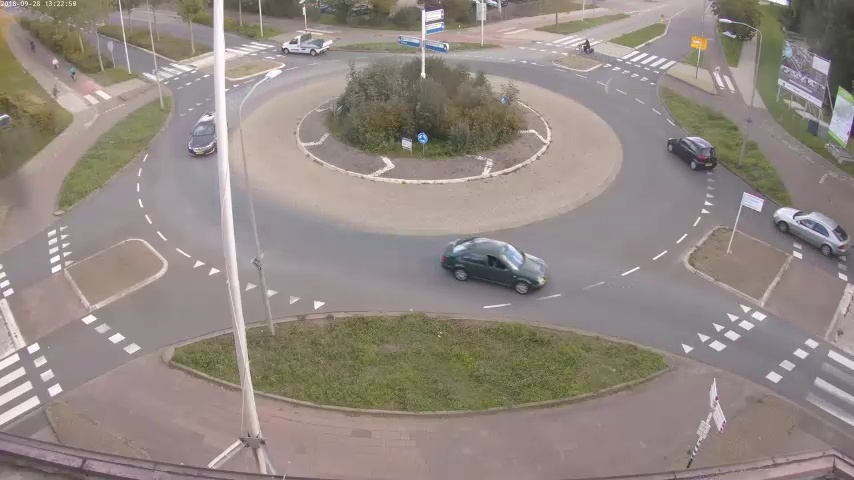bicycle: (574, 39, 597, 58), (67, 62, 81, 88), (48, 58, 62, 74)
car: (440, 235, 552, 300), (774, 201, 848, 258), (666, 136, 726, 170), (188, 108, 220, 157), (279, 31, 330, 56)
